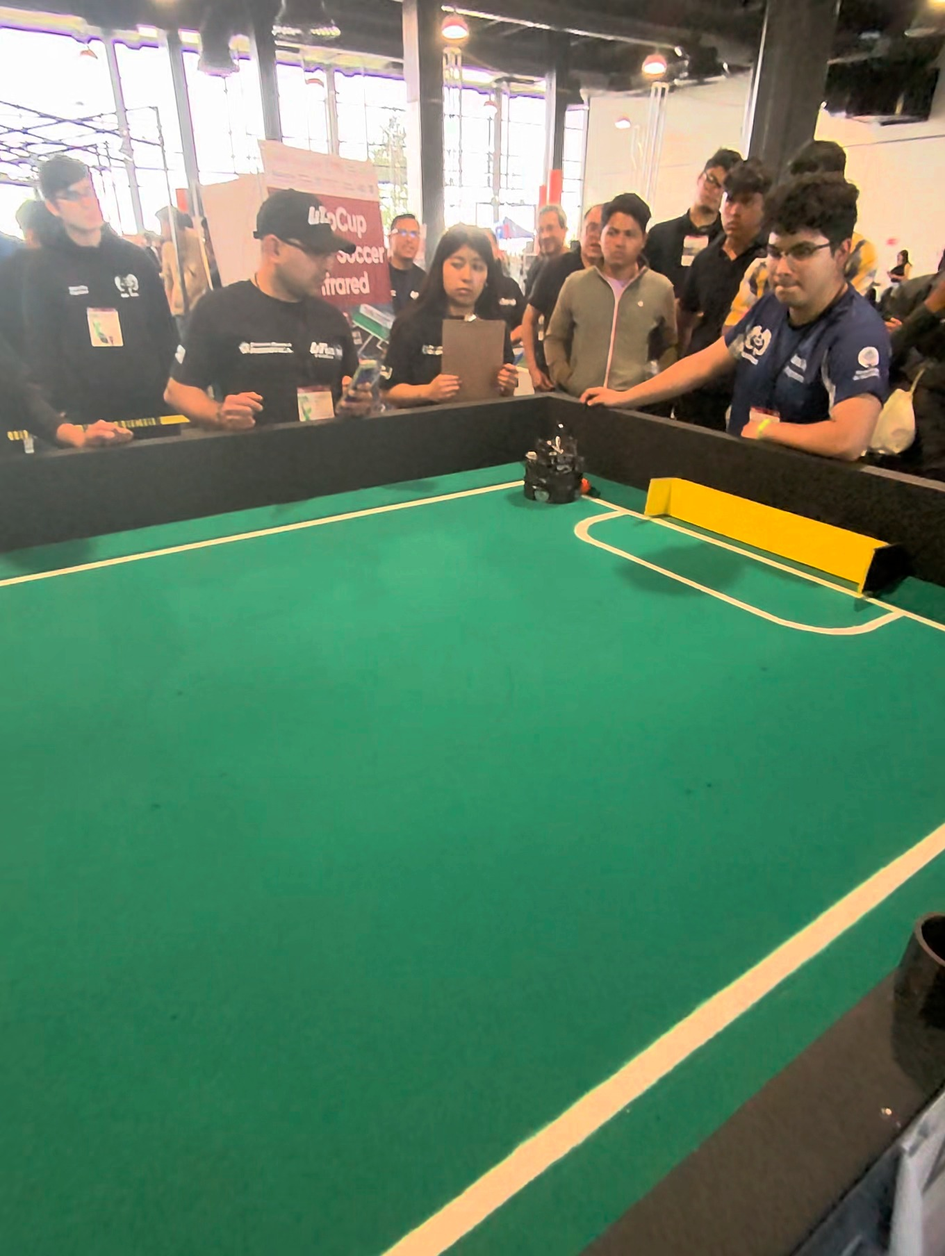Robot: (523, 414, 594, 512)
pelota: (580, 476, 589, 494)
